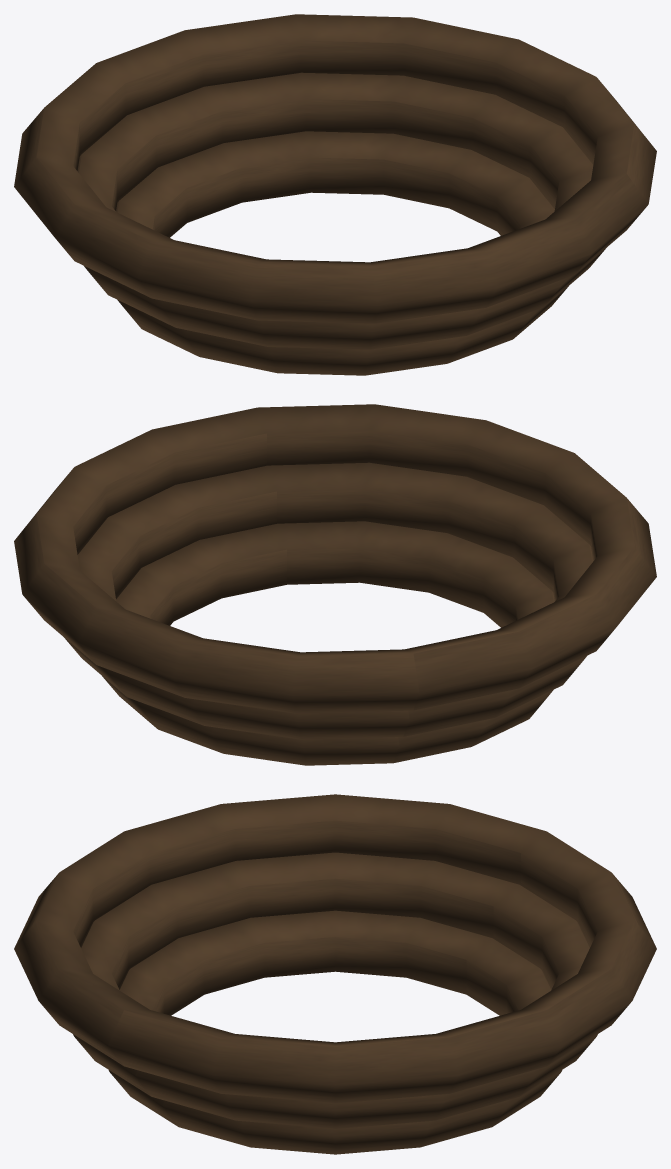
Rendered from item-LeatherBindingComponent.fbx.
3 renders of one model, top to bottom at view 1: azimuth 30°, elevation 25°; view 2: azimuth 150°, elevation 25°; view 3: azimuth 270°, elevation 25°, orthographic.
Visible parts, largest first — view 1: item-LeatherBindingComponent__Geometry; view 2: item-LeatherBindingComponent__Geometry; view 3: item-LeatherBindingComponent__Geometry.
Part boxes in pixels (x1,y1,x2,y2): item-LeatherBindingComponent__Geometry: (14, 14, 656, 375); item-LeatherBindingComponent__Geometry: (14, 404, 656, 765); item-LeatherBindingComponent__Geometry: (14, 794, 656, 1154).
Size of the model in its own units: 0.334 by 0.0803 by 0.334.
Materials: 1 (1 with a texture image).
